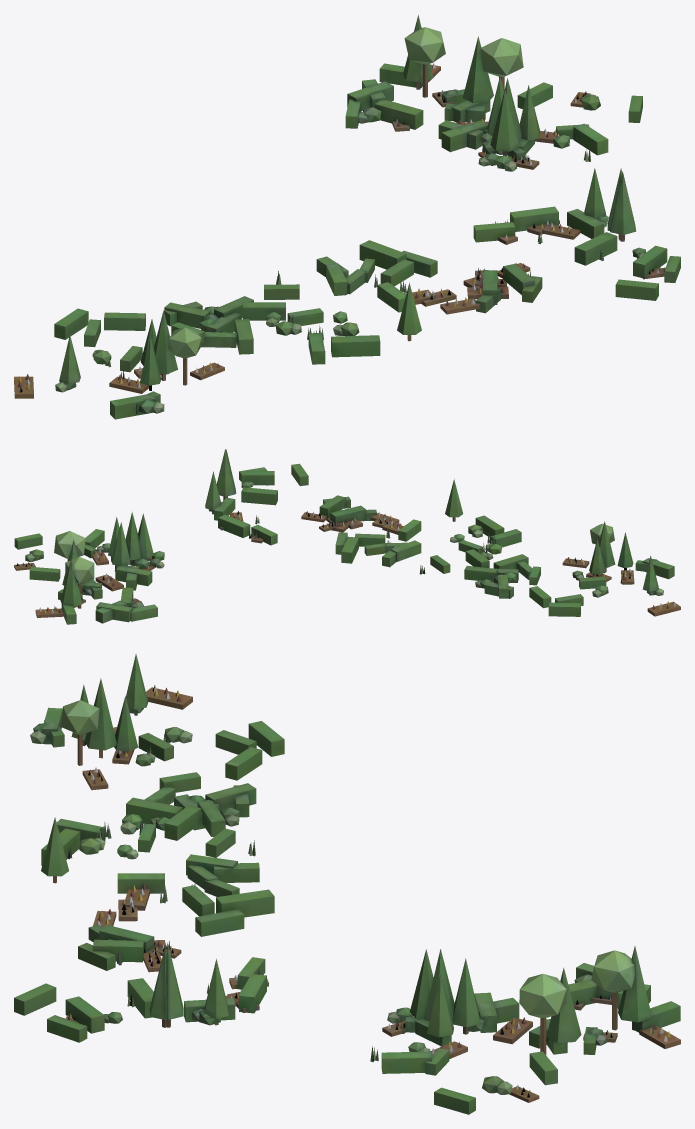
Rendered from groves-modern.glb.
3 views of the same model, one above another, from view 1: azimuth 30°, elevation 25°; view 2: azimuth 150°, elevation 25°; view 3: azimuth 270°, elevation 25° (orthographic). The views are drawn at different scales.
Parts seen in each view (by area): view 1: groves-modern; view 2: groves-modern; view 3: groves-modern.
Boxes of the visible parts, x1,y1,x2,y2 form: groves-modern: [14, 15, 680, 419]; groves-modern: [14, 449, 680, 624]; groves-modern: [14, 654, 680, 1114].
Bounding box in the file's own units: 6.72 × 0.6705 × 4.46.
Materials: 1 (1 with a texture image).
